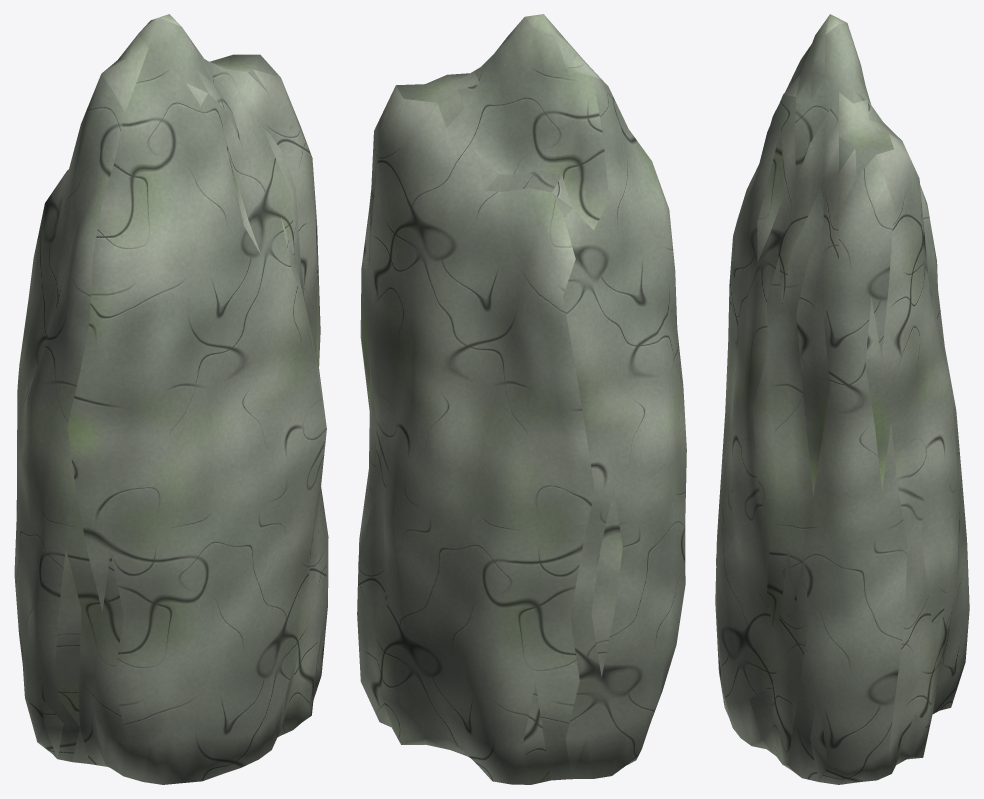
File: cliff_col_a.glb
3 renders of one model, left to right at view 1: azimuth 30°, elevation 25°; view 2: azimuth 150°, elevation 25°; view 3: azimuth 270°, elevation 25°, orthographic. The views are drawn at different scales.
Visible parts, largest first — view 1: cliff_col_a; view 2: cliff_col_a; view 3: cliff_col_a.
Part boxes in pixels (bbox=[...]): cliff_col_a: bbox=[14, 14, 328, 784]; cliff_col_a: bbox=[357, 14, 686, 784]; cliff_col_a: bbox=[715, 14, 969, 784].
Size of the model in its own units: 1.53 by 3.51 by 1.16.
Materials: 1 (1 with a texture image).
